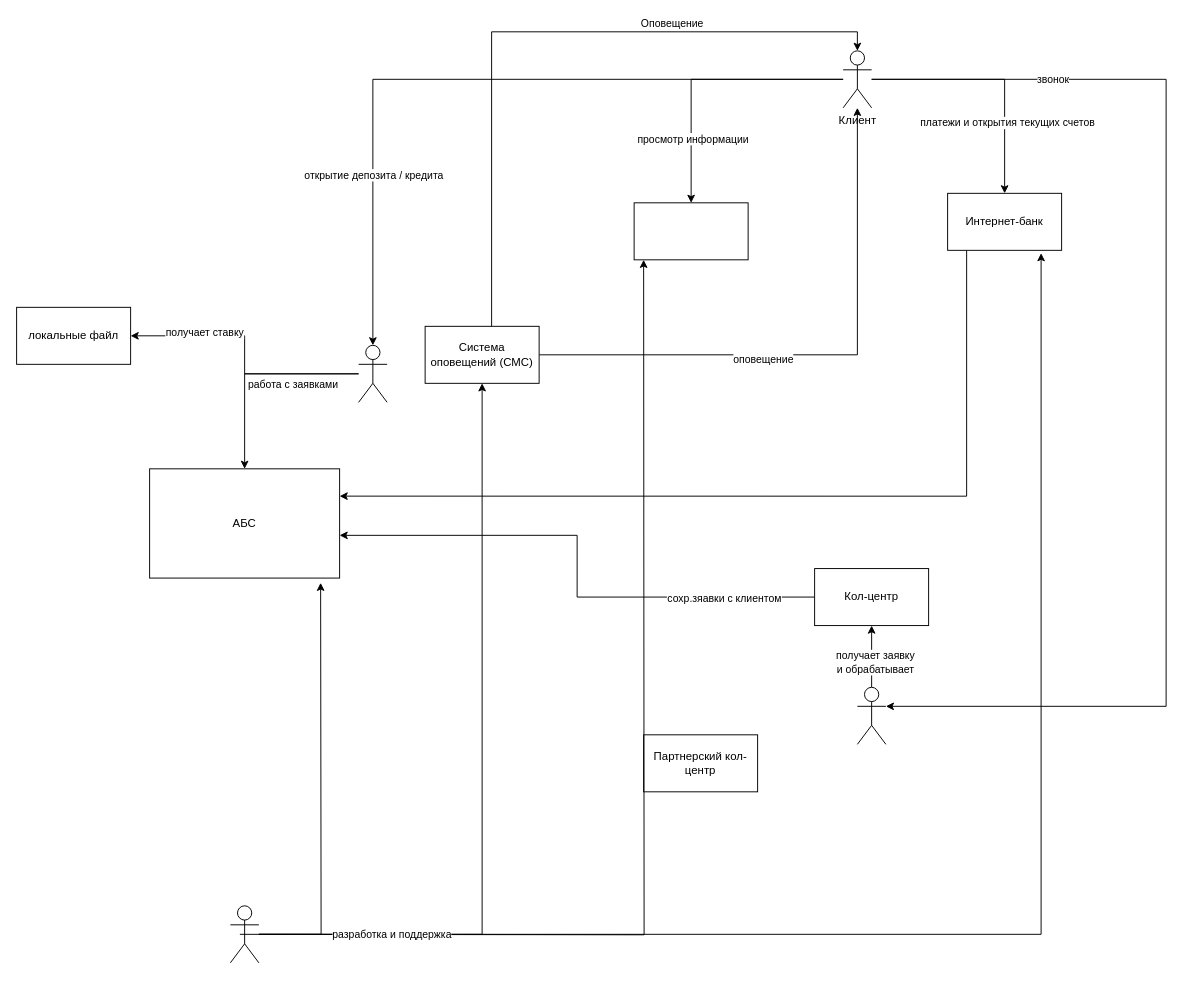
This 1190x998 diagram has some shape labels left out. Here are the shapes that lost their labels. From the top down, the centre of each, then its label:
the point at 690,231: Сайт
the point at 372,373: Сотрудник отделения
the point at 871,715: Сотрудник кол центра
the point at 244,934: IT отдел
